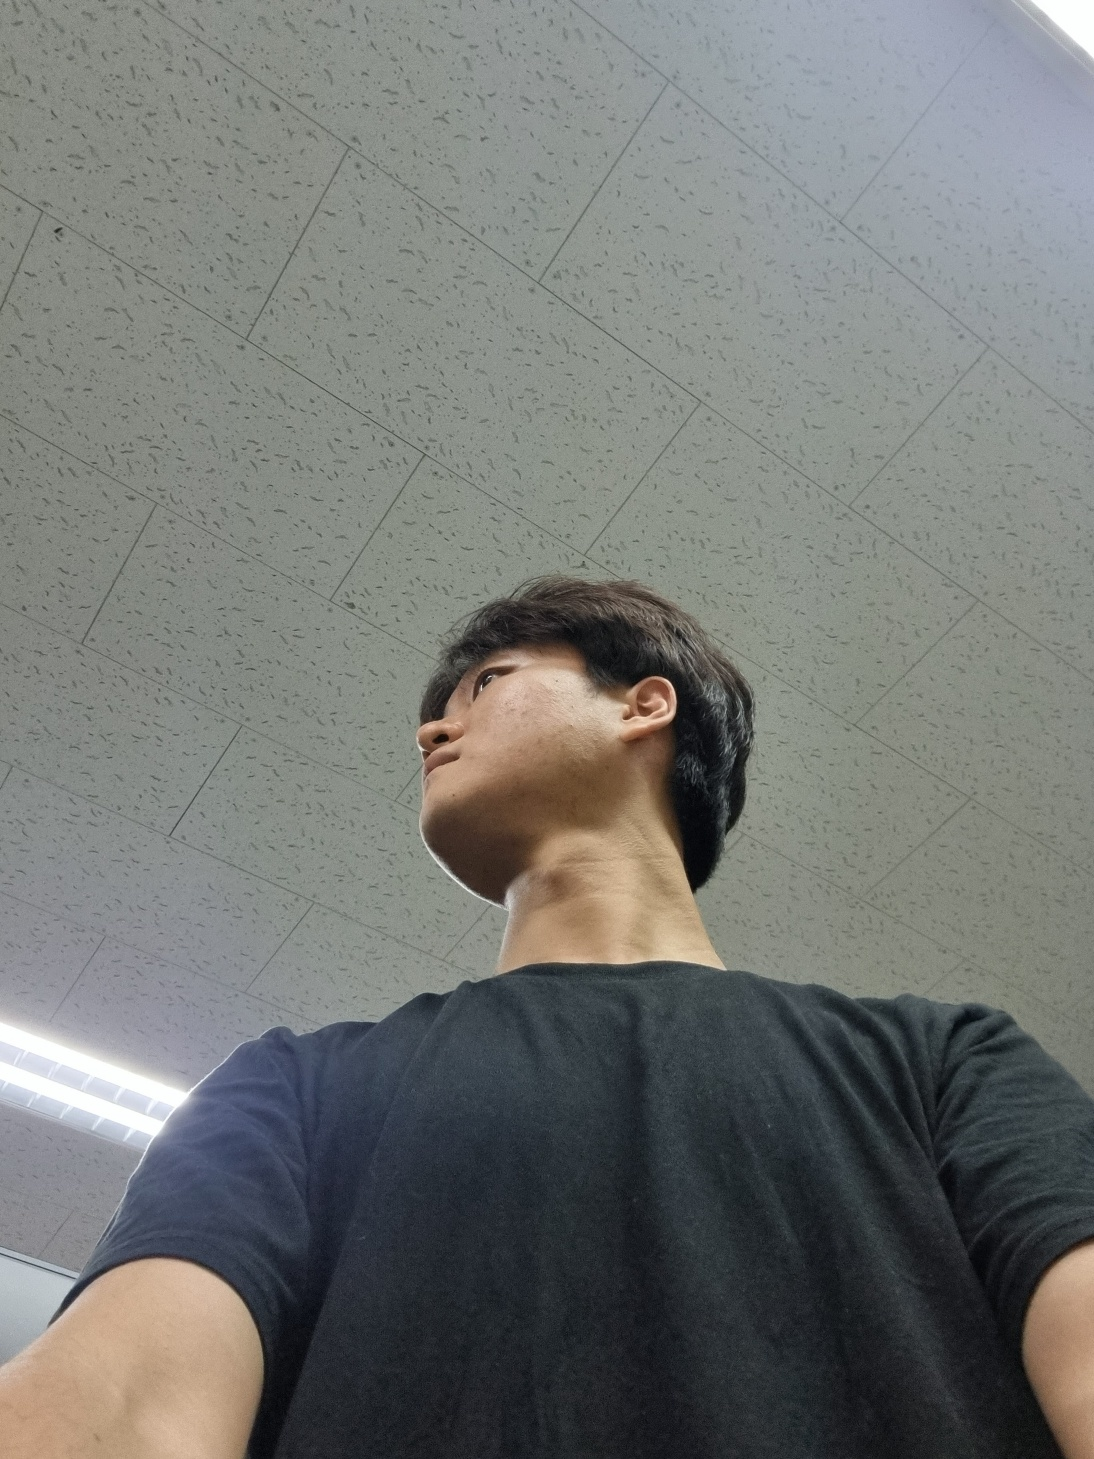Non-Helmet: (340, 505, 835, 947)
